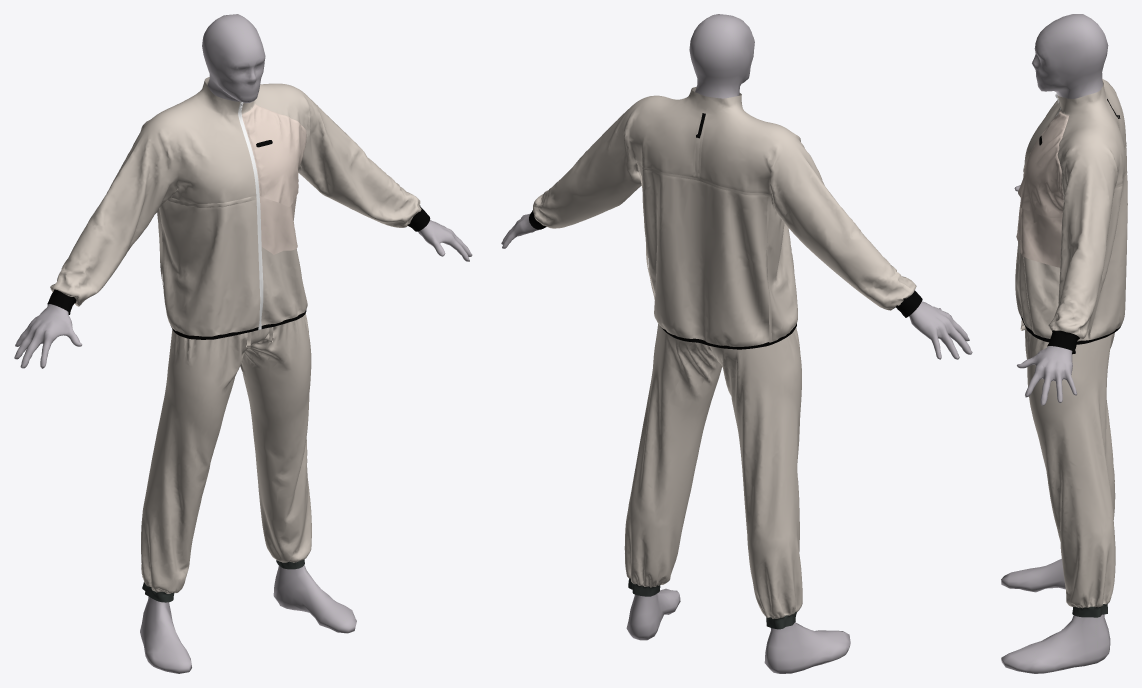
Rendered from final_sports.glb.
3 renders of one model, left to right at view 1: azimuth 30°, elevation 25°; view 2: azimuth 150°, elevation 25°; view 3: azimuth 270°, elevation 25°, orthographic. The views are drawn at different scales.
Parts seen in each view (by area): view 1: sports_wear_mesh; view 2: sports_wear_mesh; view 3: sports_wear_mesh.
Part boxes in pixels (x1=…): sports_wear_mesh: x1=14, y1=14, x2=472, y2=673; sports_wear_mesh: x1=501, y1=14, x2=972, y2=673; sports_wear_mesh: x1=1001, y1=14, x2=1127, y2=673.
Bounding box in the file's own units: 4.64 × 6.01 × 1.13.
3 materials, 3 textured.
